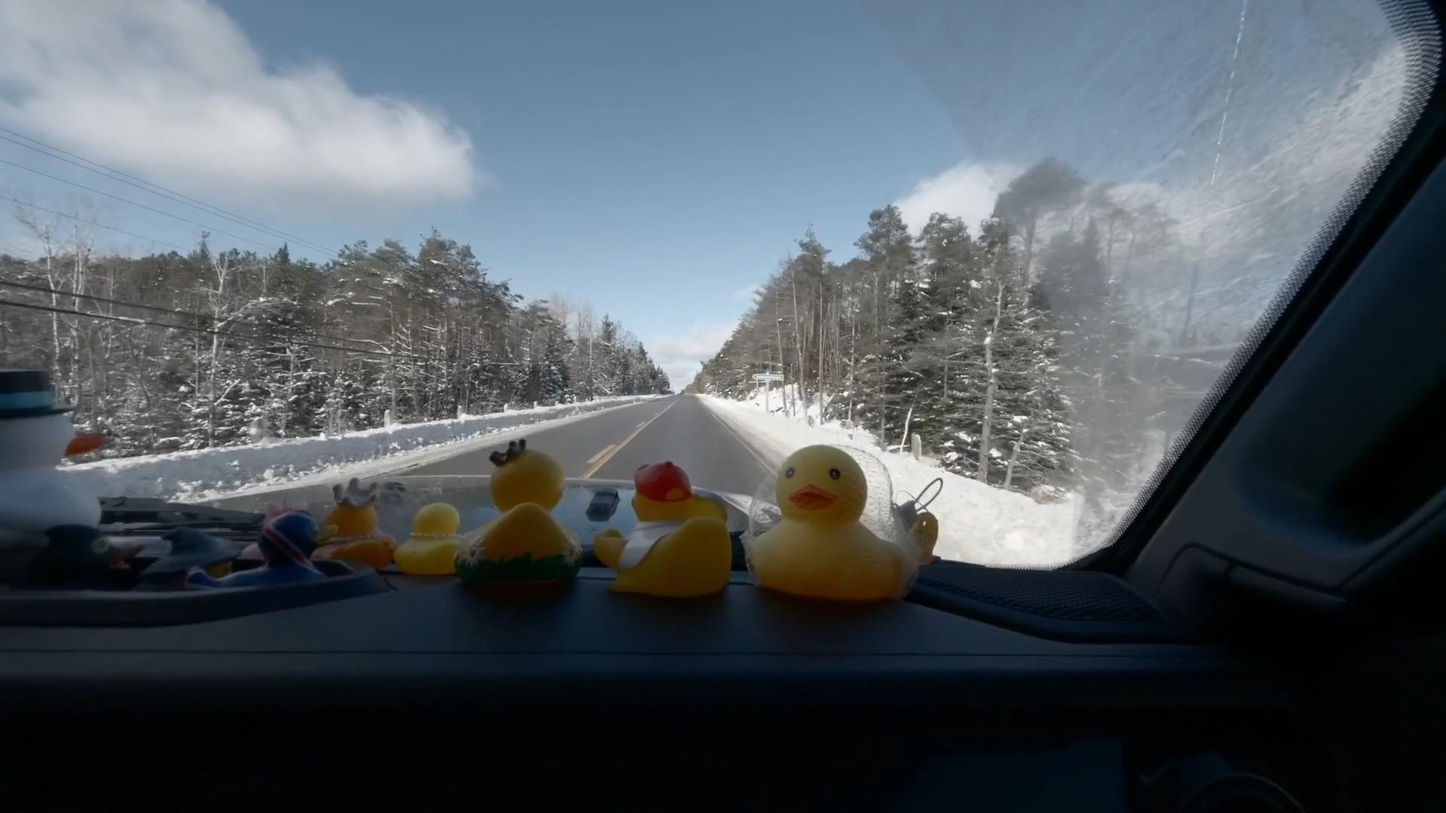Ice: (241, 394, 776, 496)
Snow: (704, 391, 1094, 565), (101, 392, 669, 503)
